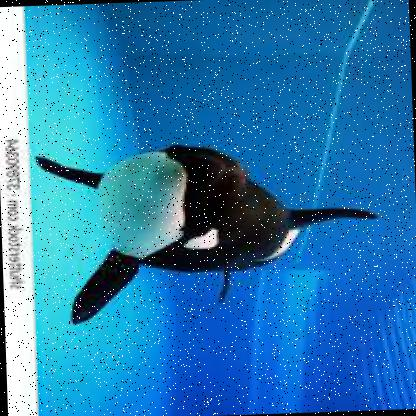killer_whale: (31, 81, 350, 333)
